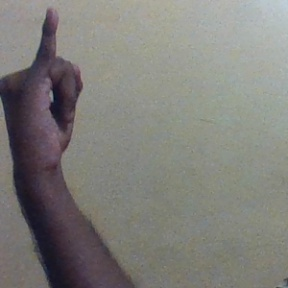I: (4, 6, 88, 167)
